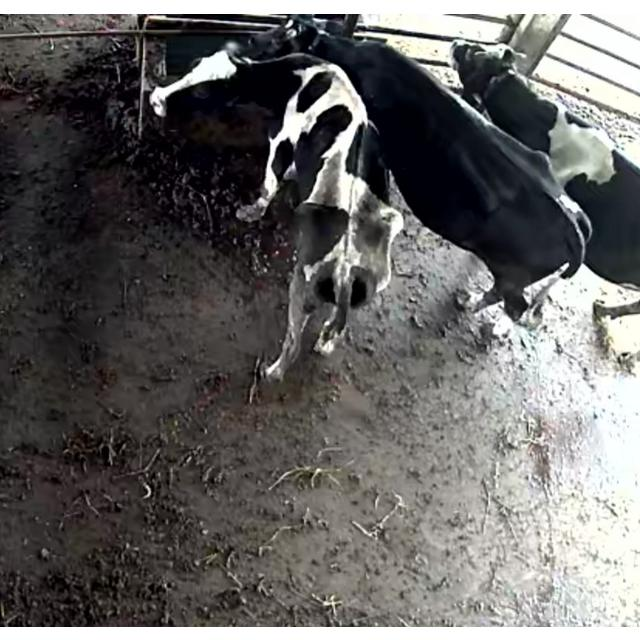drink: (246, 14, 424, 100)
